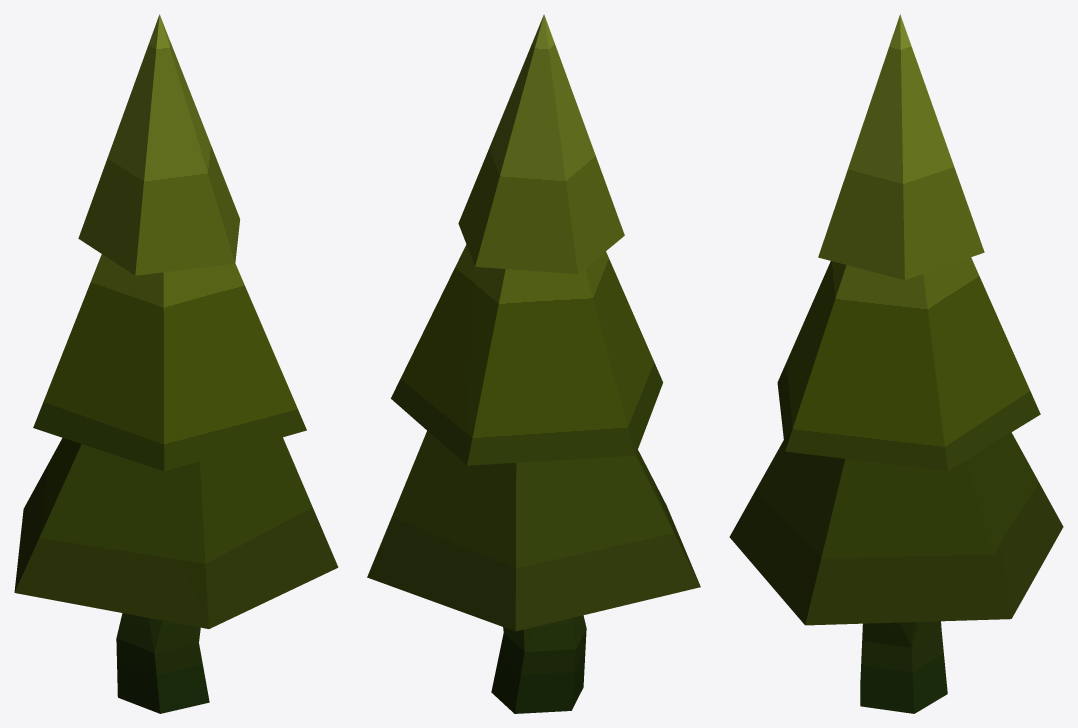
Rendered from prop_tc_pine_tree.glb.
3 renders of one model, left to right at view 1: azimuth 30°, elevation 25°; view 2: azimuth 150°, elevation 25°; view 3: azimuth 270°, elevation 25°, orthographic.
Visible parts, largest first — view 1: PineTree_2; view 2: PineTree_2; view 3: PineTree_2.
Part boxes in pixels (x1,y1,x2,y2): PineTree_2: (14,14,338,713); PineTree_2: (367,14,700,713); PineTree_2: (729,14,1063,713).
Size of the model in its own units: 0.8591 by 1.98 by 0.8866.
Materials: 1 (1 with a texture image).
